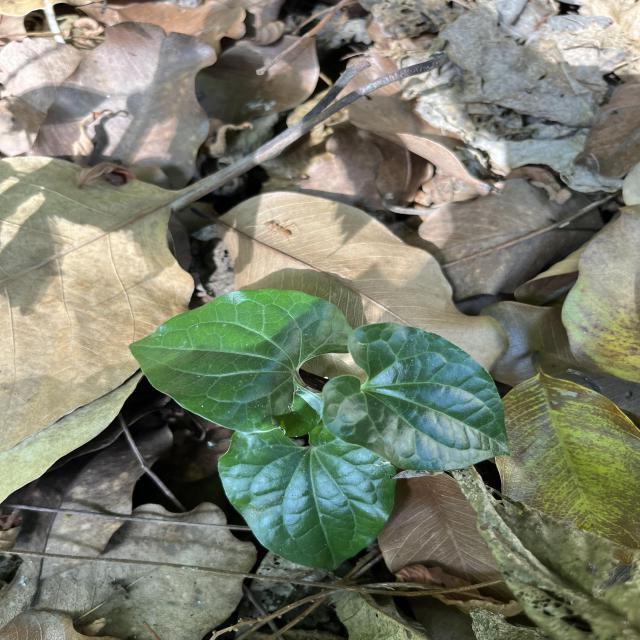Piper longum: (127, 286, 356, 439), (319, 320, 515, 473), (216, 419, 398, 574)
